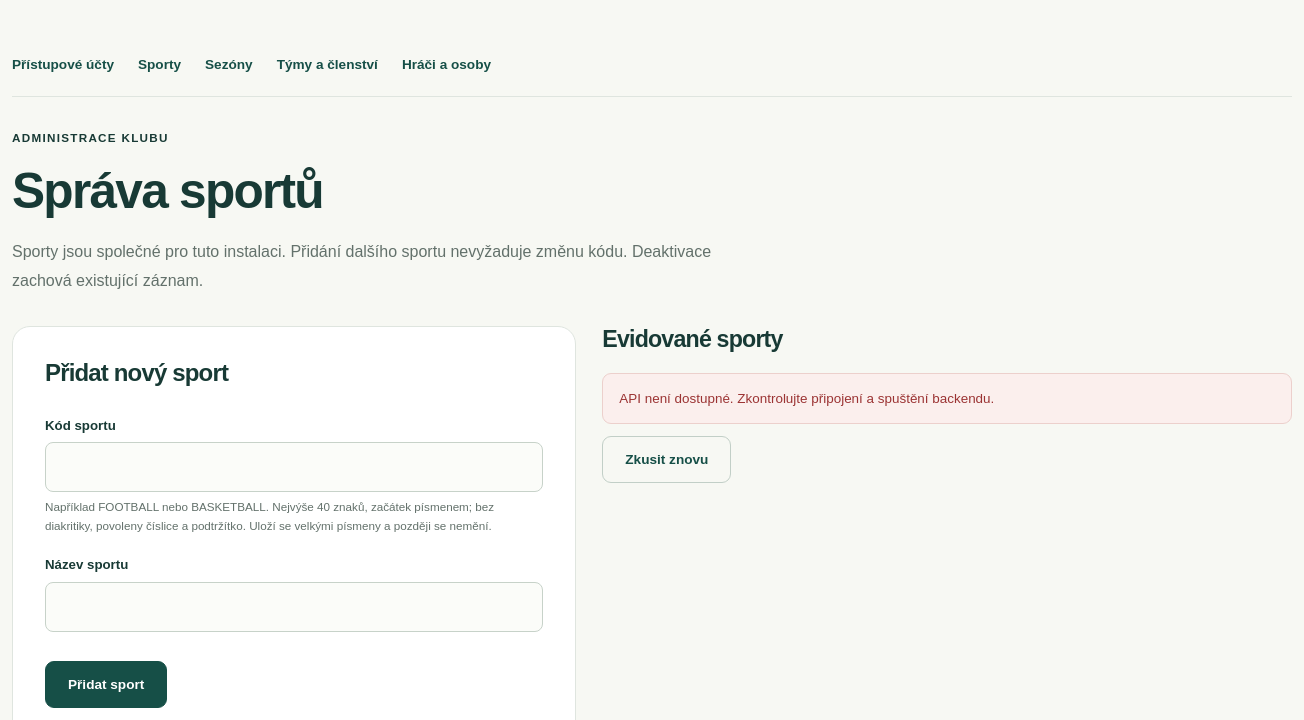
P1 sports administration › zobrazí síťovou chybu a po retry skutečný prázdný seznam
Check: the message "API není dostupné. Zkontrolujte připojení a spuštění backendu." is shown, box x1=602 y1=373 x2=1292 y2=424
Click the button "Zkusit znovu" at (667, 460), box x1=602 y1=436 x2=731 y2=483
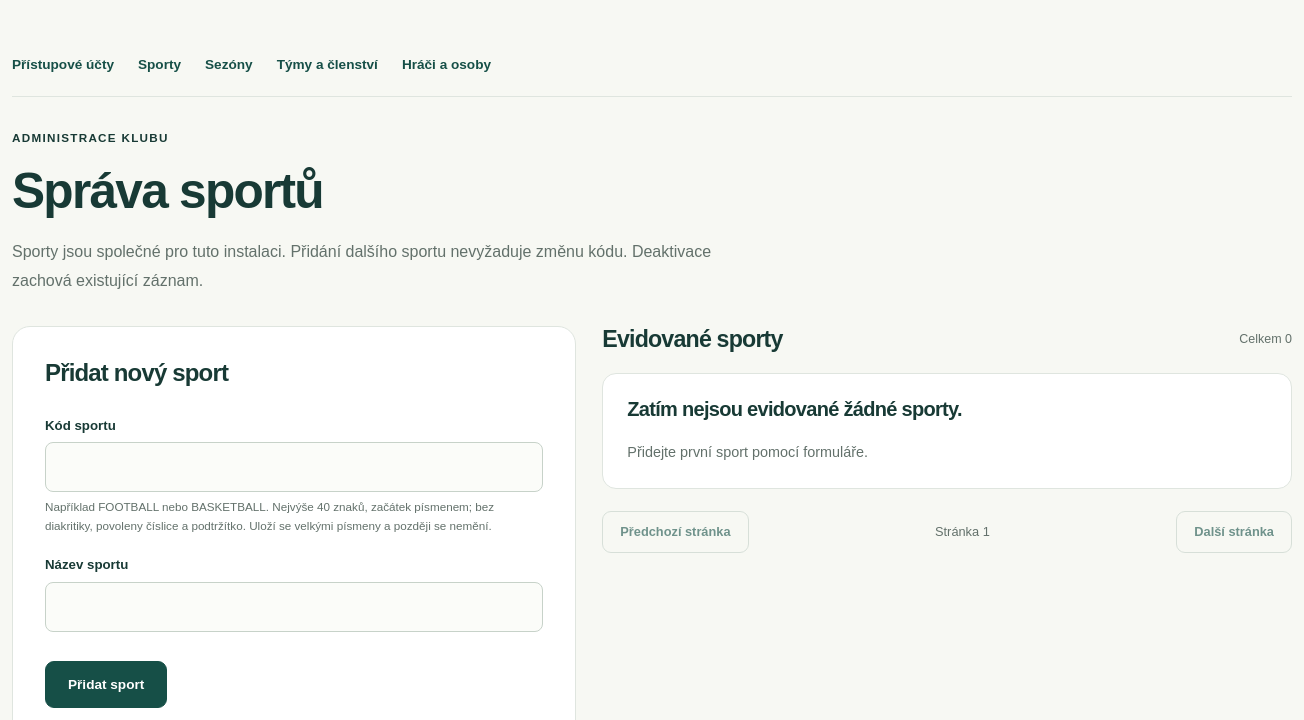
Check: the heading "Zatím nejsou evidované žádné sporty." is shown, box x1=627 y1=398 x2=962 y2=420
Check: the button "Předchozí stránka" is disabled, box x1=602 y1=511 x2=749 y2=553
Check: the button "Další stránka" is disabled, box x1=1176 y1=511 x2=1292 y2=553
